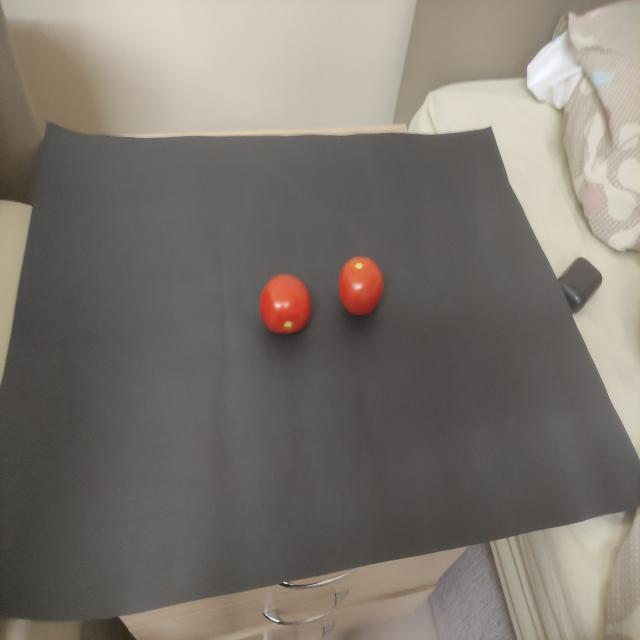kirmizi: (331, 242, 398, 334), (252, 260, 322, 345)
